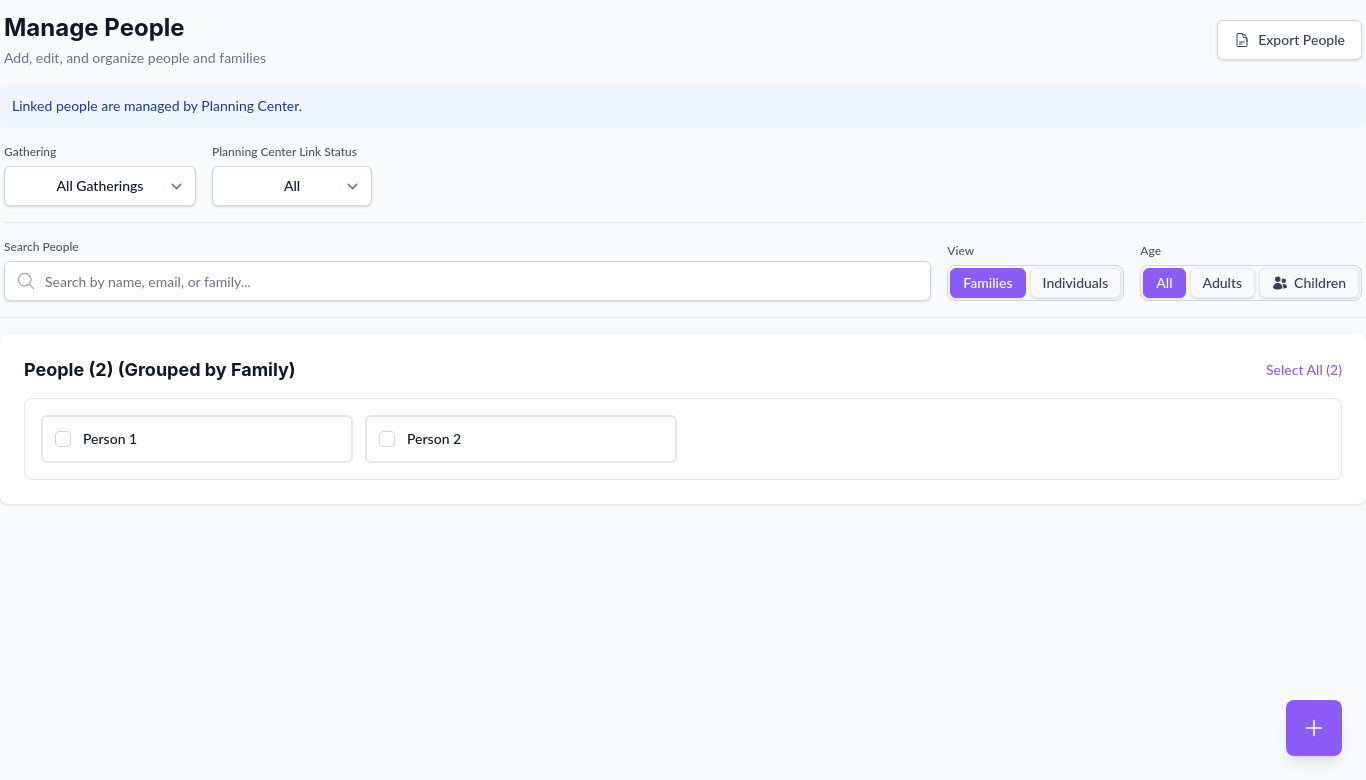
Test: PeoplePage external source filter › applies the active-provider filter in individual view
Step 1. Select "Not linked" in the dropdown labelled "Planning Center Link Status" → (292, 186), box [212,166,372,206]
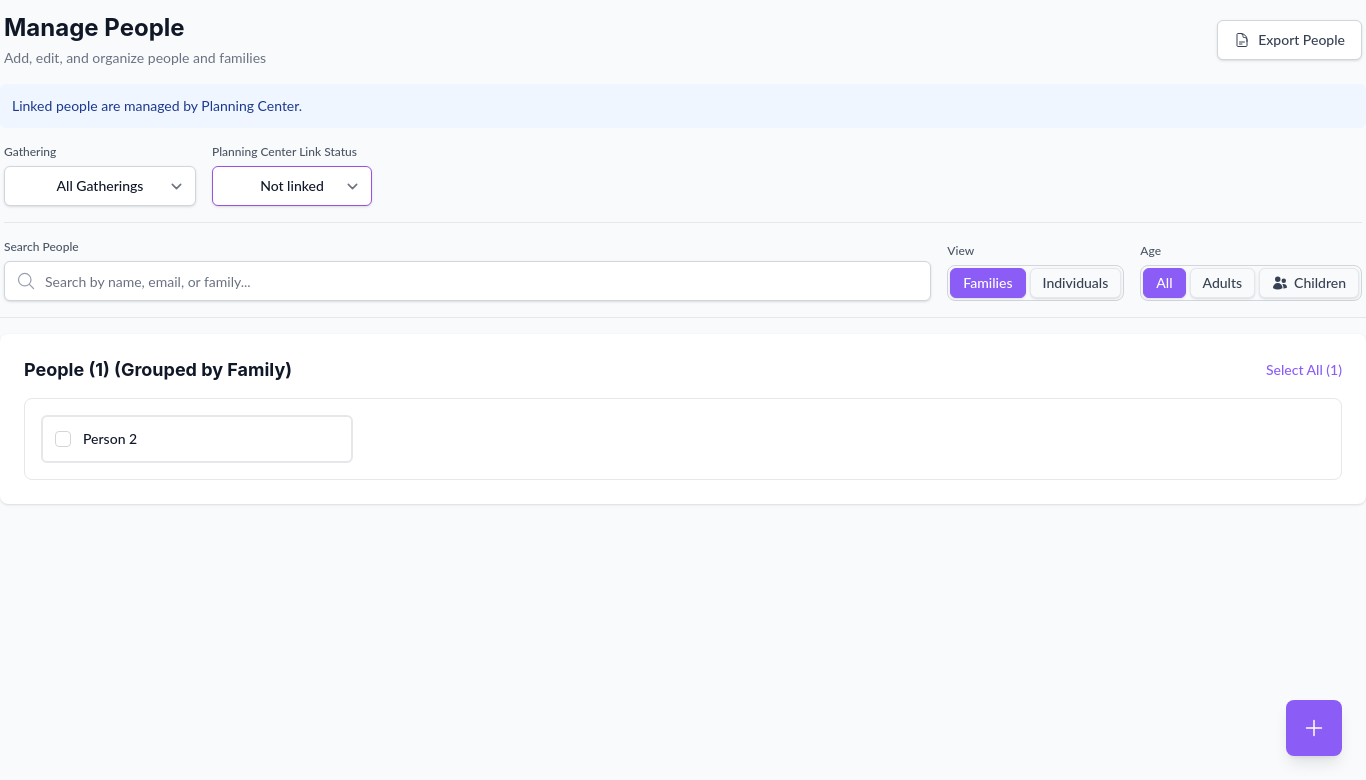
Step 2. Click the button "Individuals" → click(1075, 283), box [1030,268,1121,298]
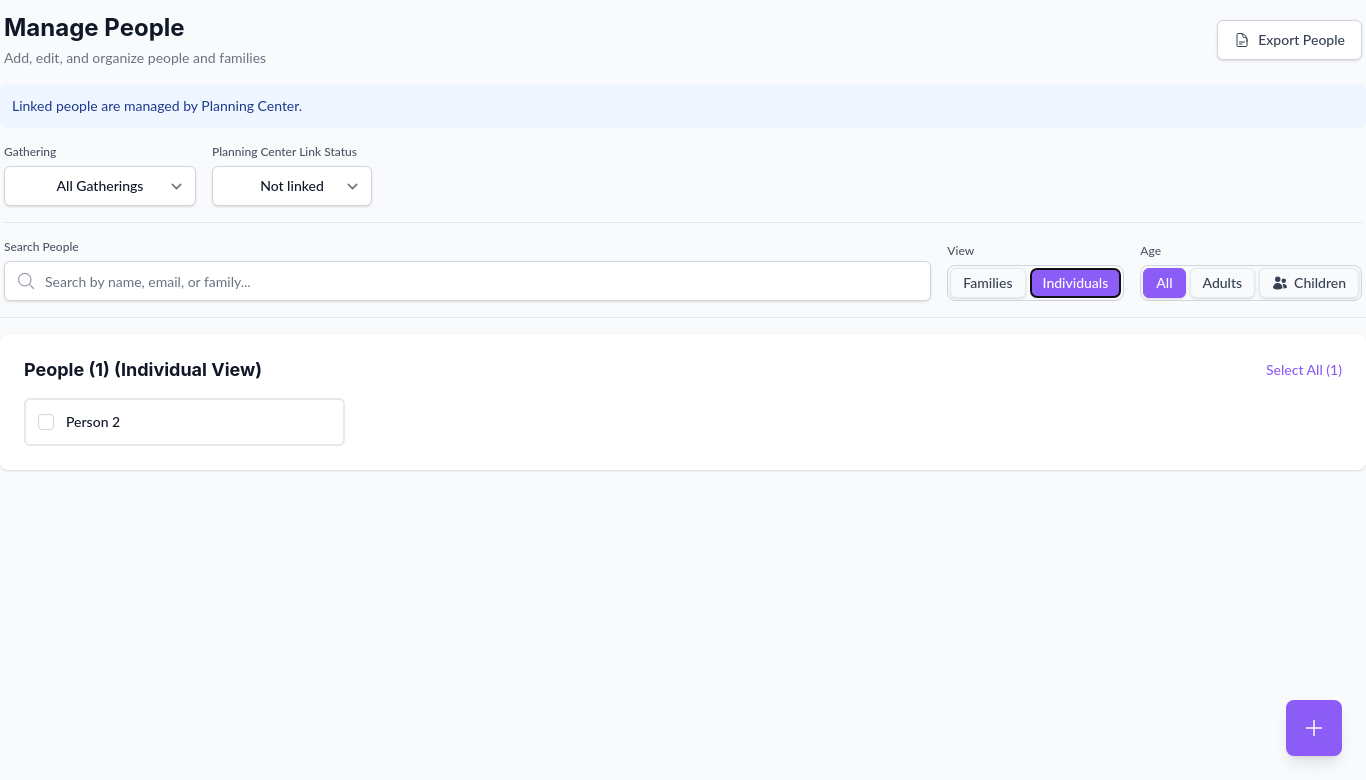
Check: the text "Person 1" is not shown
Check: the heading "People (1) (Individual View)" is shown, box [24,358,262,382]
